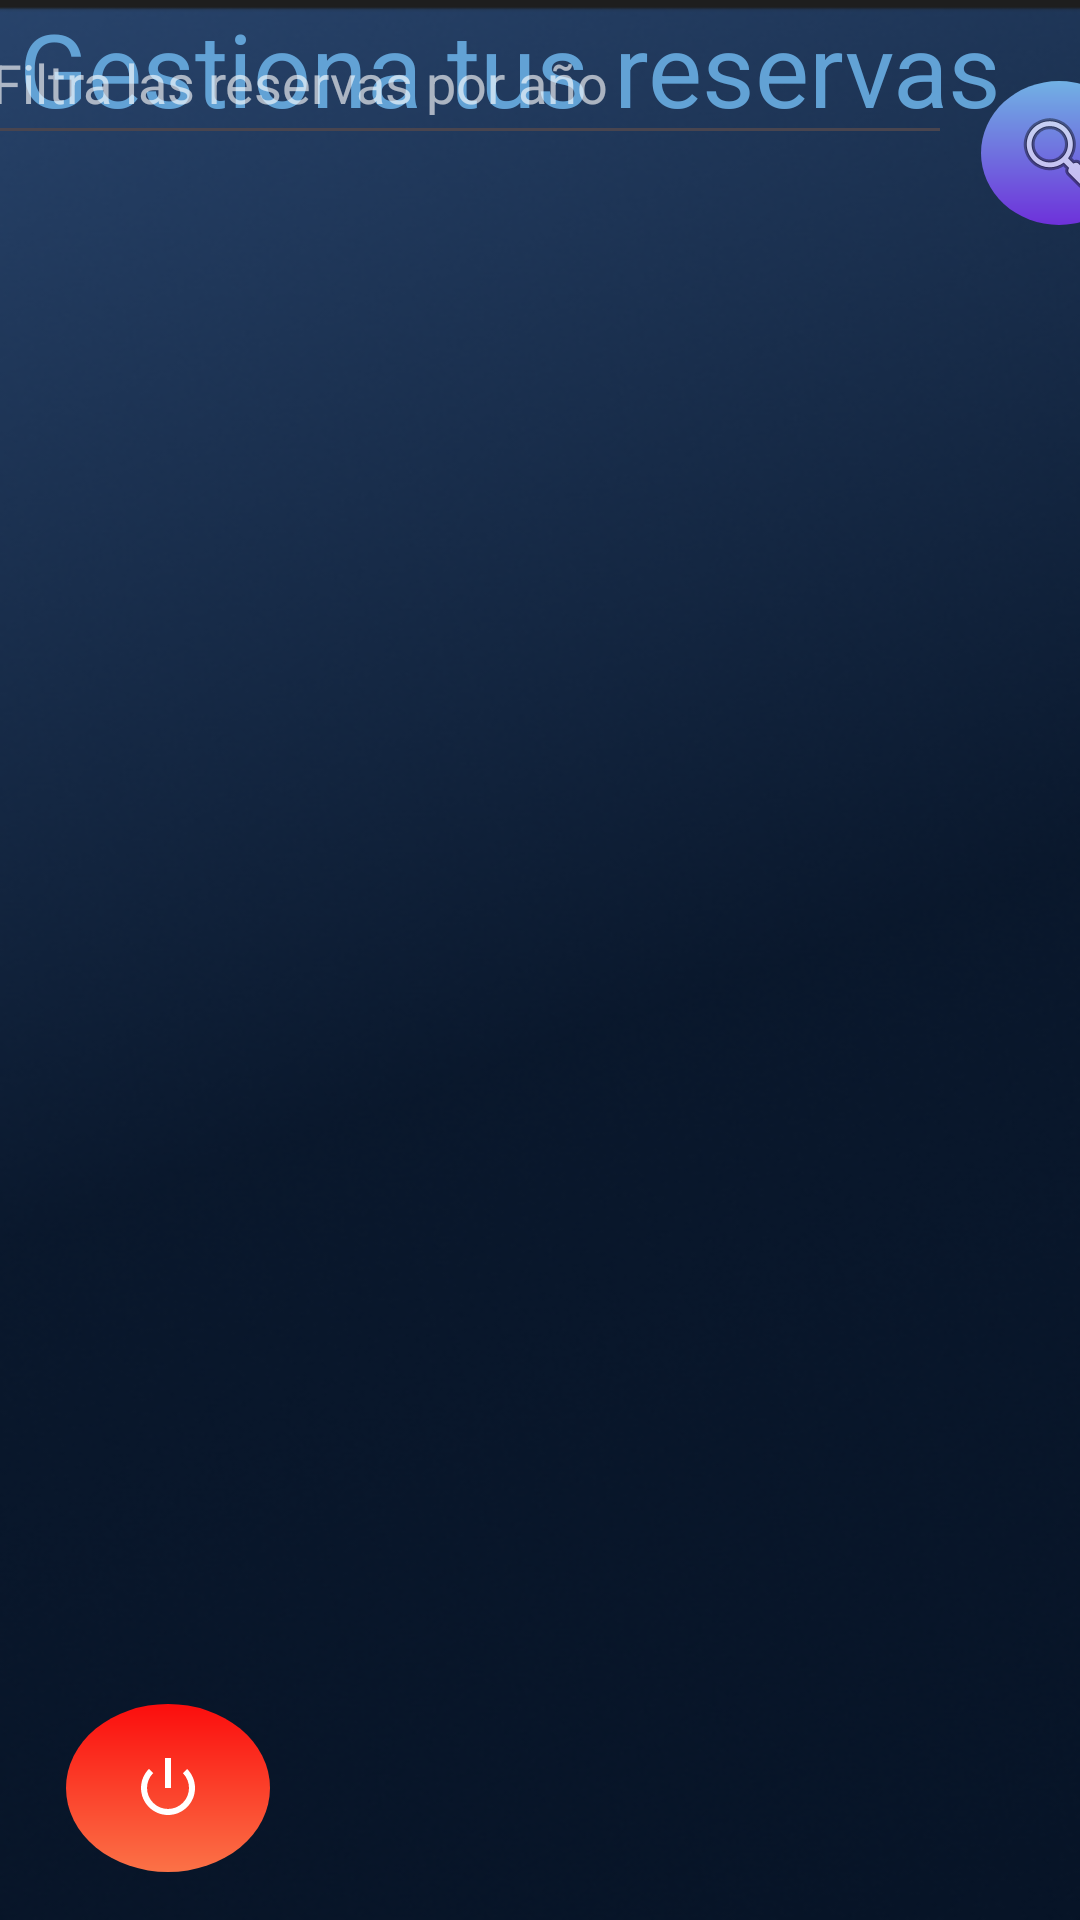

Point at icon controls on the screen. Image size 1080 x 1920, points as point (x, y).
lock power off: point (168, 1788)
